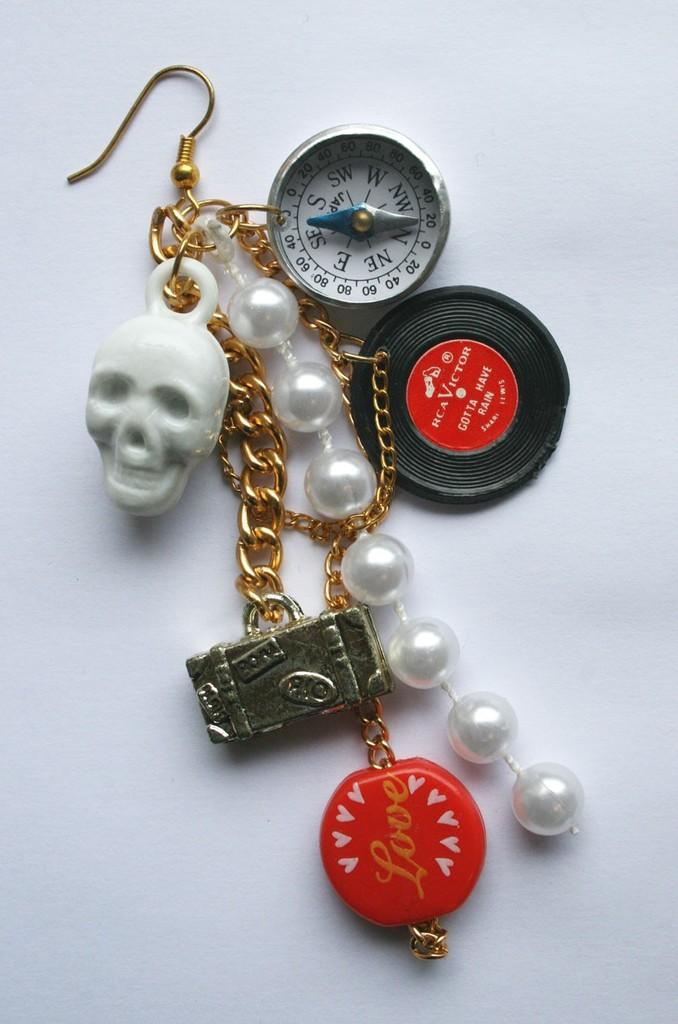earring: (54, 55, 609, 959)
